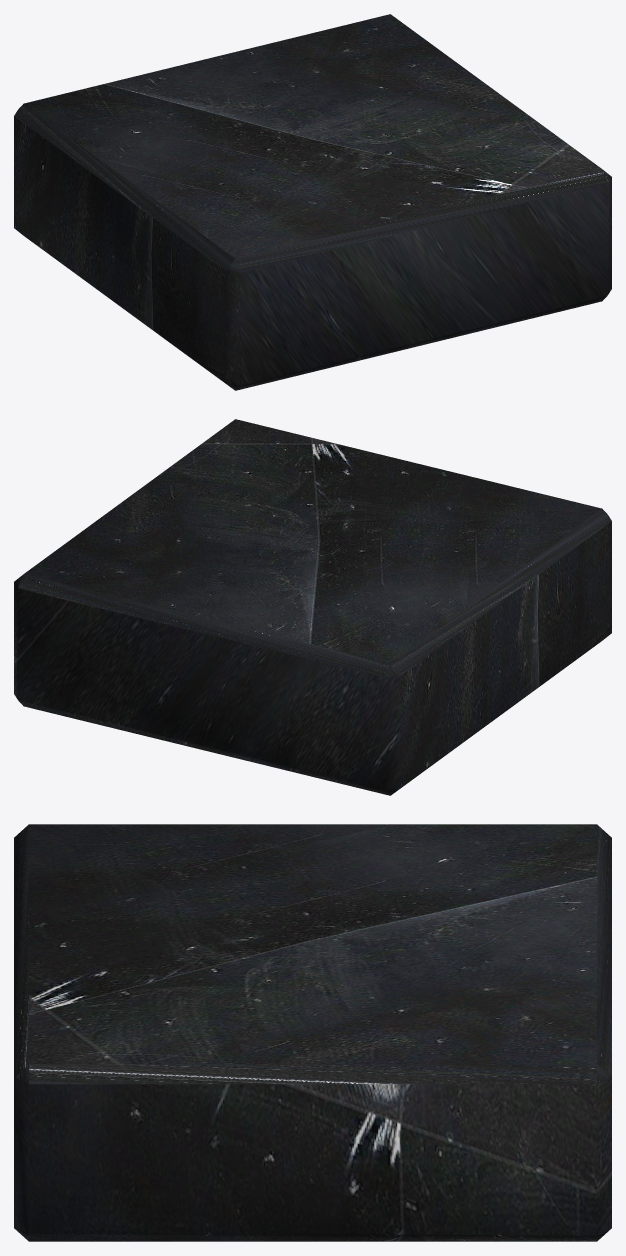
File: ボタン.fbx
3 renders of one model, top to bottom at view 1: azimuth 30°, elevation 25°; view 2: azimuth 150°, elevation 25°; view 3: azimuth 270°, elevation 25°, orthographic. The views are drawn at different scales.
Parts seen in each view (by area): view 1: ボタン; view 2: ボタン; view 3: ボタン.
Boxes of the visible parts, x1,y1,x2,y2 form: ボタン: (14, 14, 611, 390); ボタン: (14, 419, 611, 795); ボタン: (14, 824, 611, 1241).
Bounding box in the file's own units: 200 × 65.44 × 200.
Materials: 1 (1 with a texture image).
